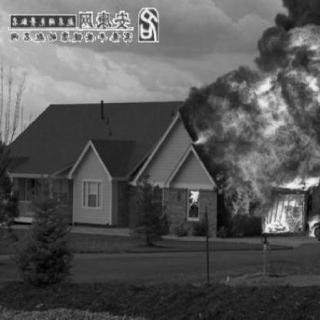Fire: (193, 16, 320, 223)
